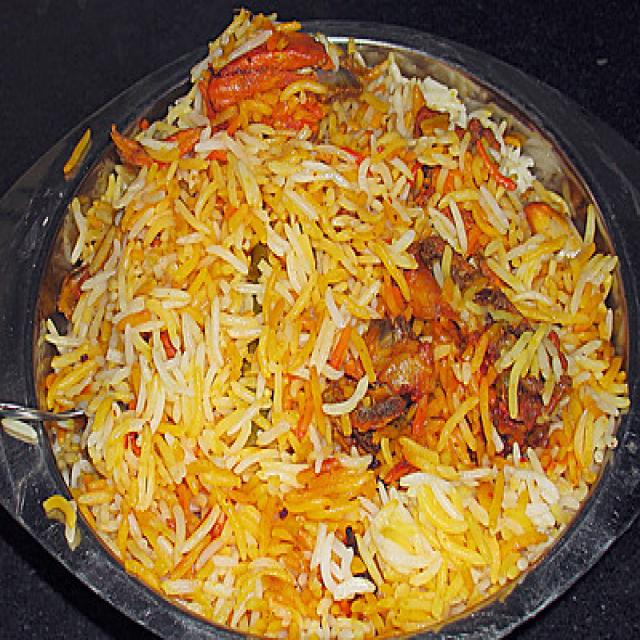Biryani: (54, 106, 600, 597)
